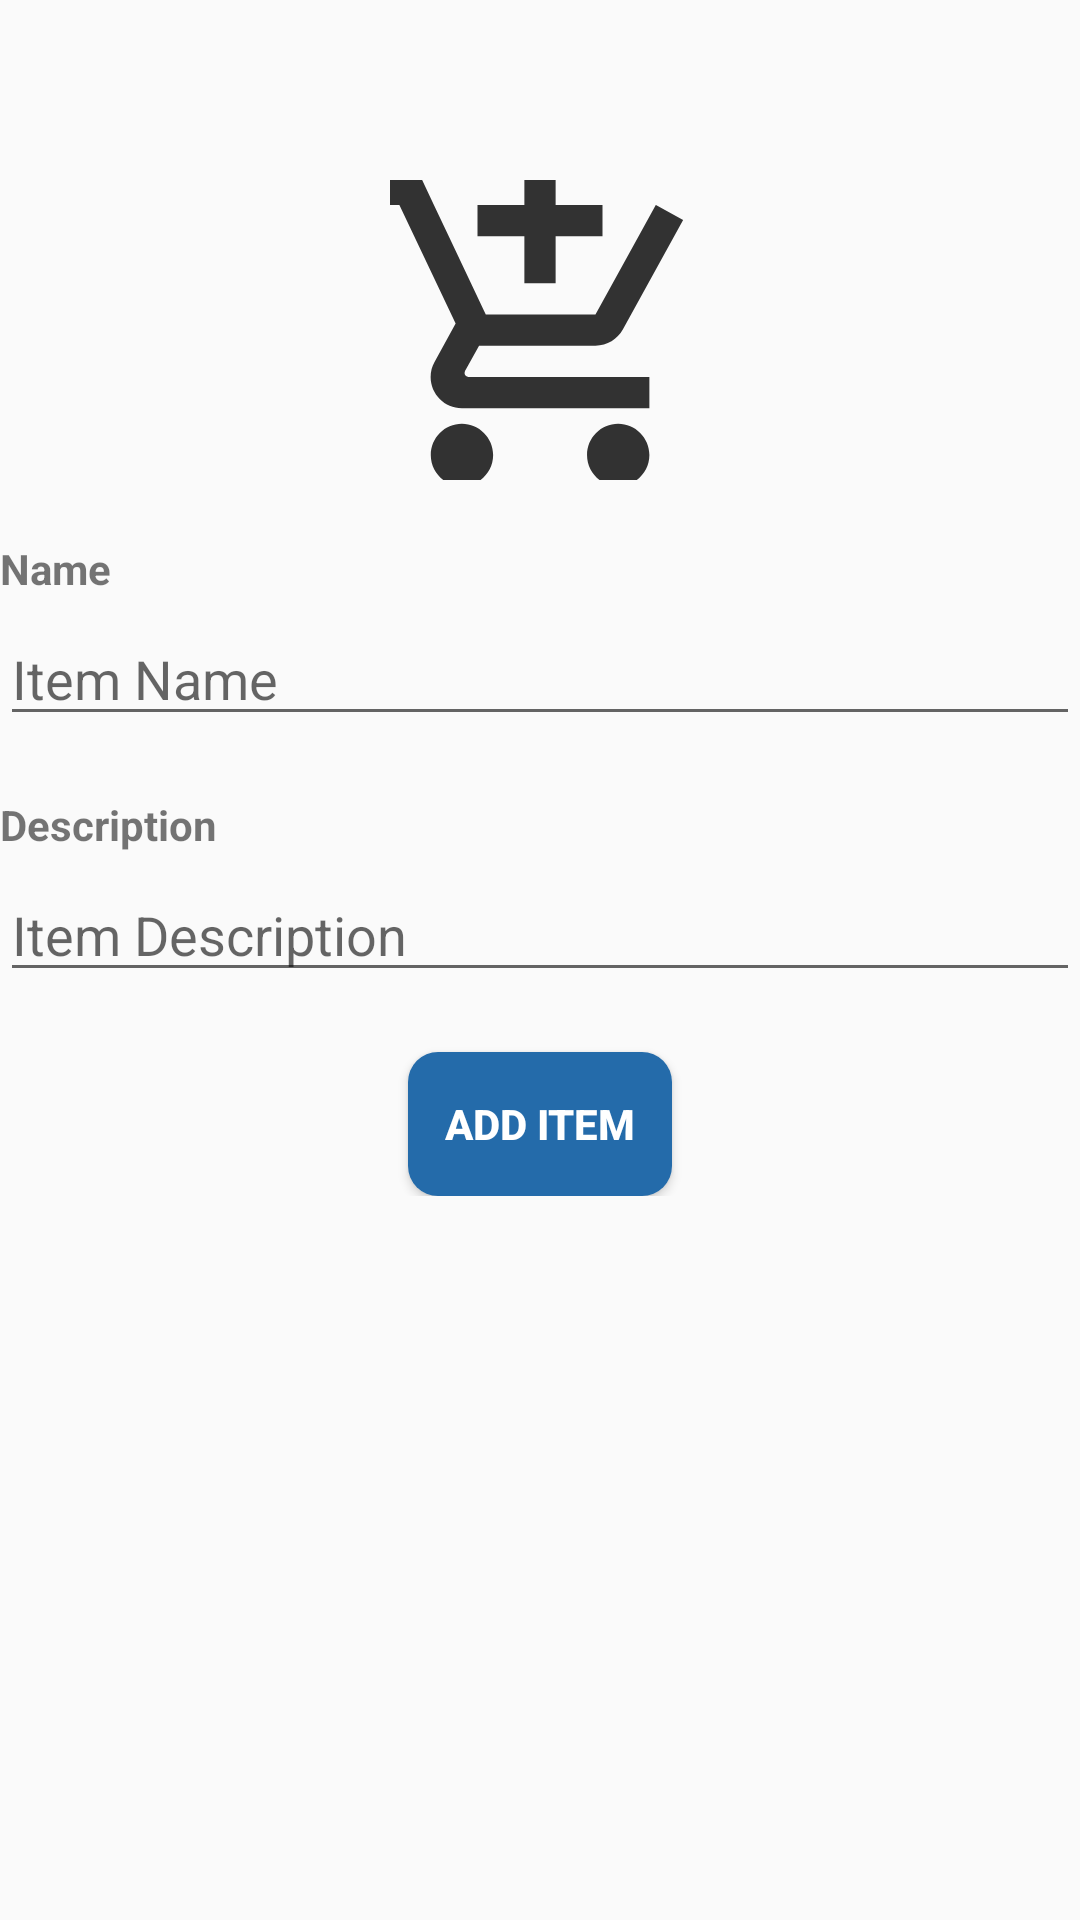

Icon click points for this 1080 × 1920 phone screenshot, format point (x, y):
cart: point (536, 330)
